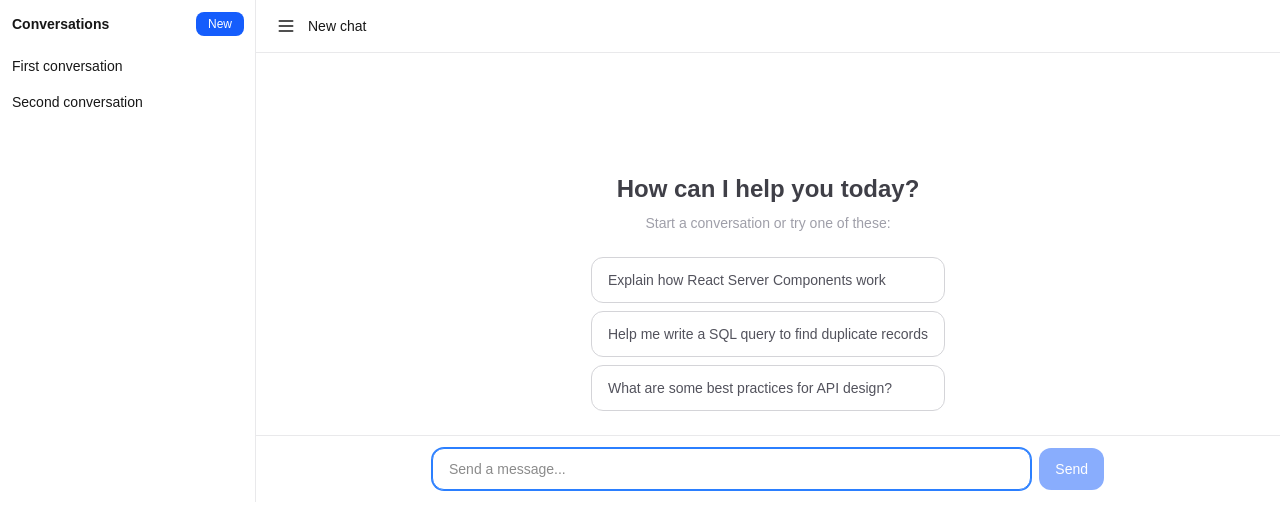
Test: ChatInterface › input and send button › enables send button after typing
Type "Hello" into the text box with placeholder "Send a message..." at (732, 469), box 432,448 -> 1031,490
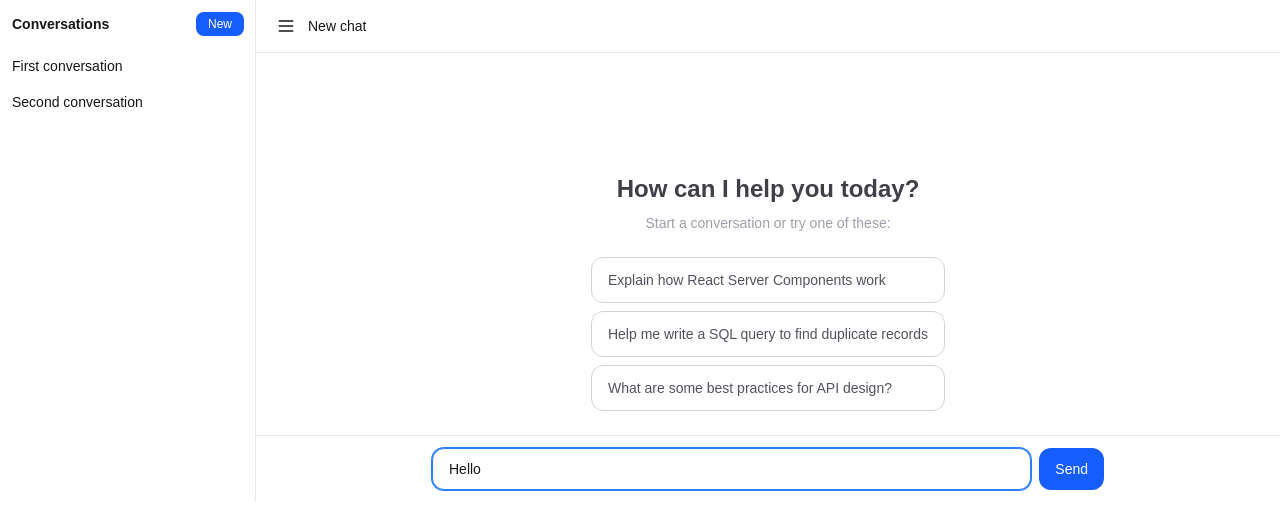
Expected: the button "Send" is enabled, 1039,448 -> 1104,490
